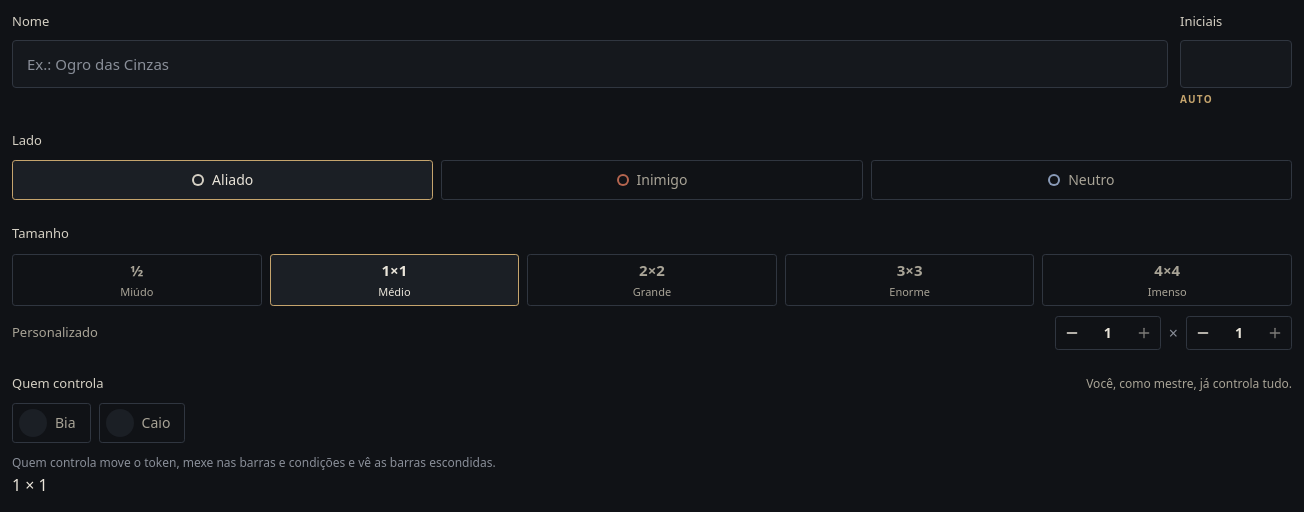
it: TokenBasicsTab, the size › choosing "Grande" makes the form 2 × 2
Step 1. Click the button "Grande 2×2" → (652, 280), box [527, 254, 777, 306]
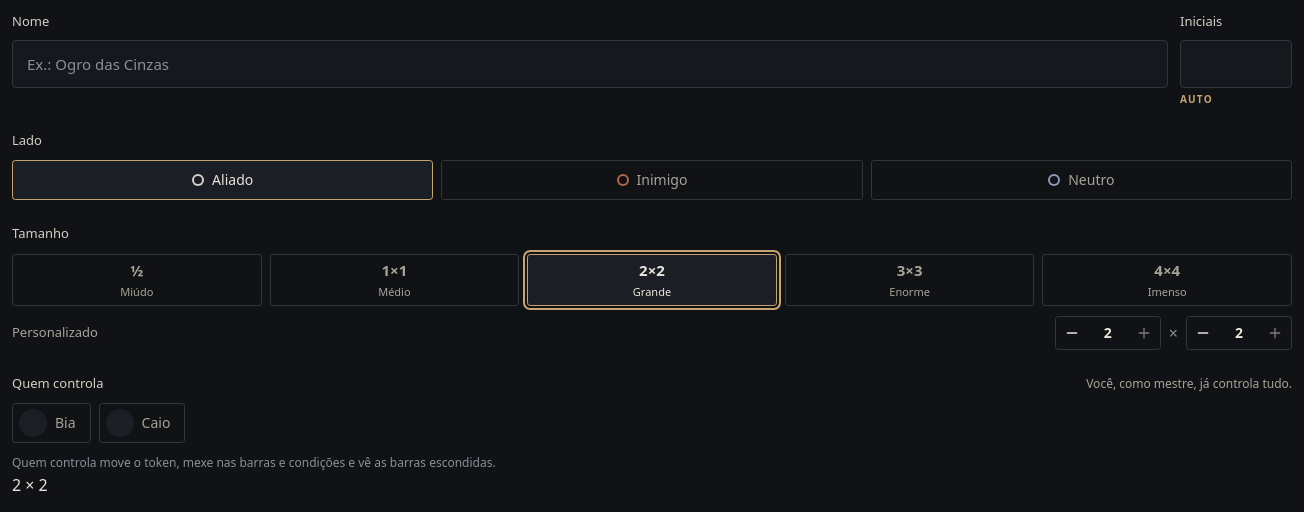
Result: the text named "Tamanho escolhido" reads "2 × 2" at [12, 474, 48, 496]
